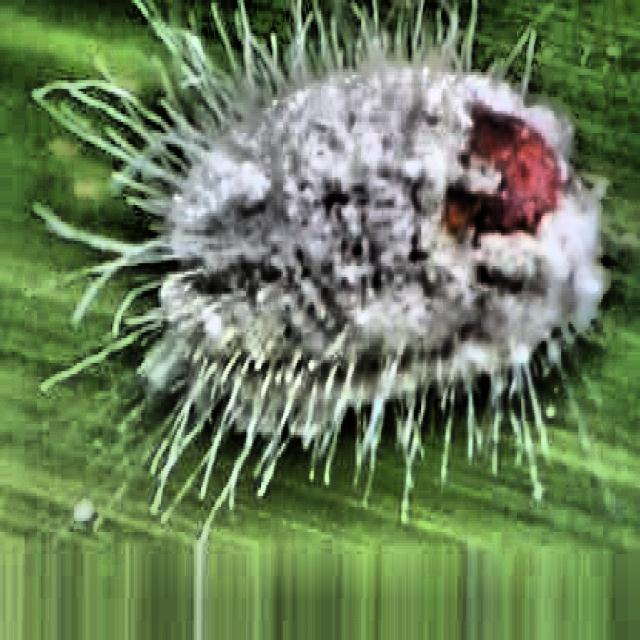Mealy-bug: (88, 3, 630, 557)
